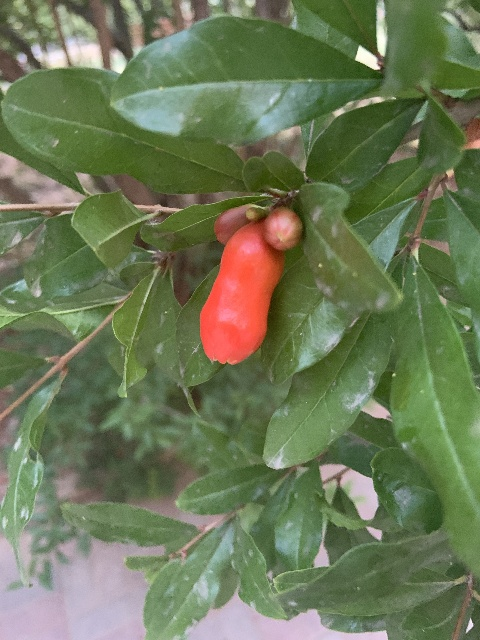bud: (199, 222, 285, 366), (213, 205, 259, 245), (262, 207, 303, 250), (245, 206, 265, 220)
